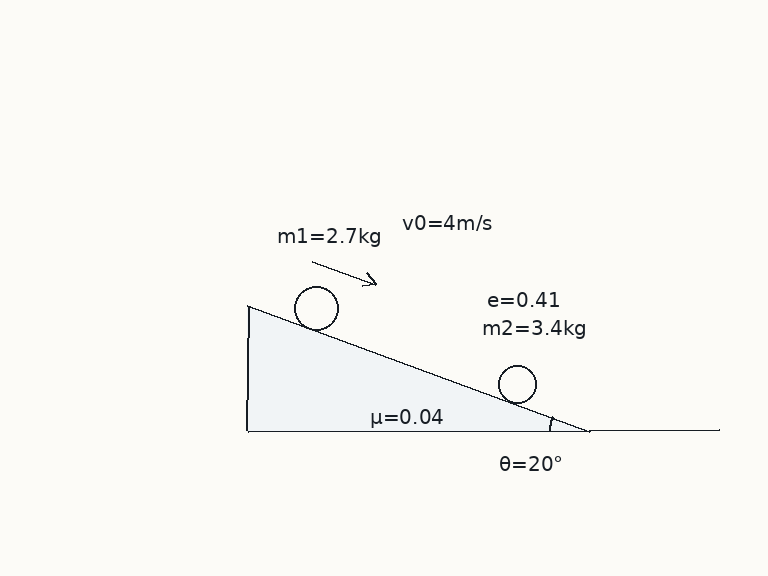ball: (292, 284, 340, 332), (496, 363, 538, 405)
ramp: (245, 304, 592, 433)
